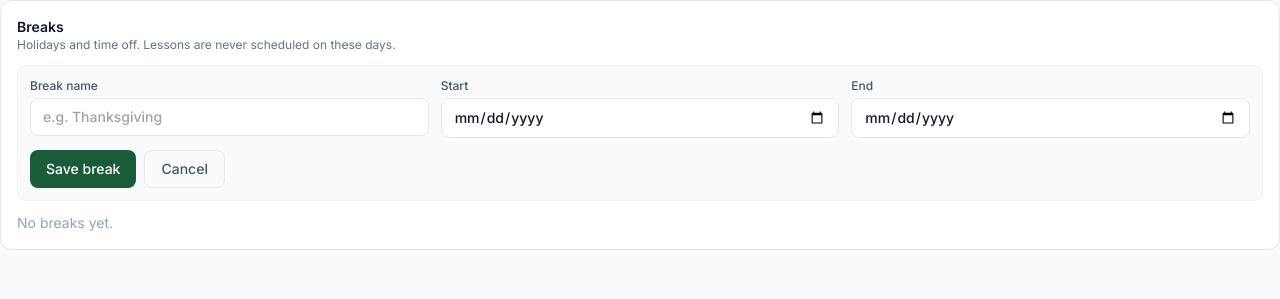
Test: SchoolBreaksPanel — add › shows an inline error and does not save for {"name":"Backwards","start":"2026-12-10","end":"2026-12-01"}
In the field labelled "Break name": (229, 117) left=30, top=98, right=429, bottom=136, type "Backwards"
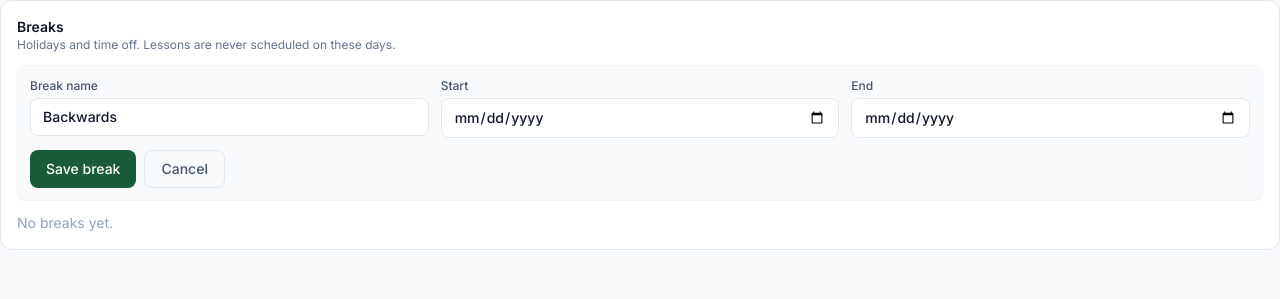
In the date field labelled "Start": (640, 118) left=441, top=98, right=839, bottom=138, type "2026-12-10"
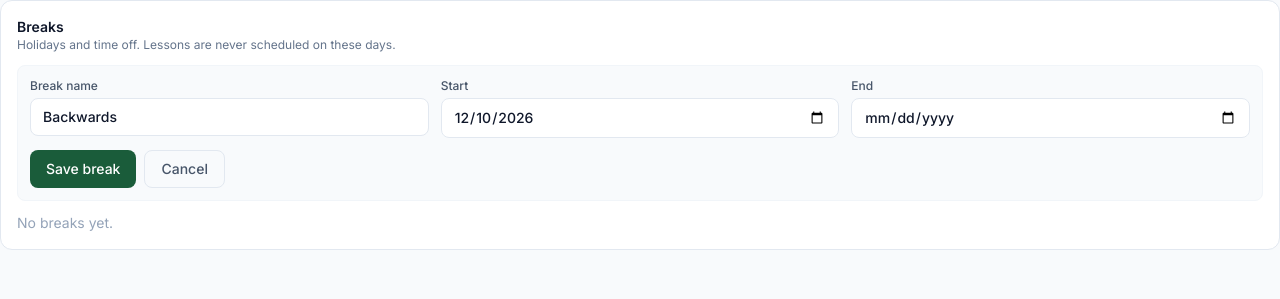
In the date field labelled "End": (1051, 118) left=851, top=98, right=1250, bottom=138, type "2026-12-01"
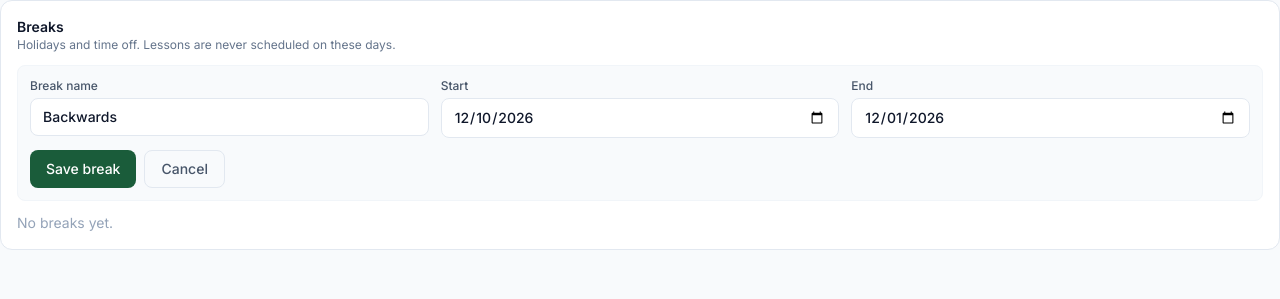
Click the button "Save break": (83, 169) left=30, top=150, right=136, bottom=188
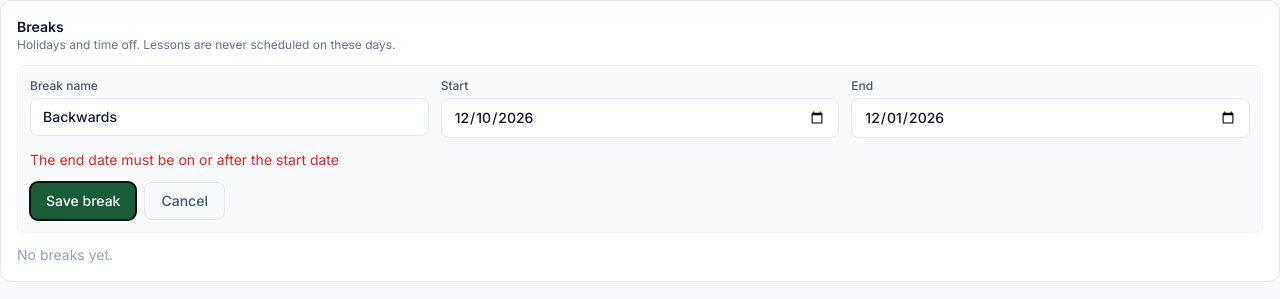
Now the text "The end date must be on or after the start date" is shown, box left=30, top=151, right=339, bottom=168
